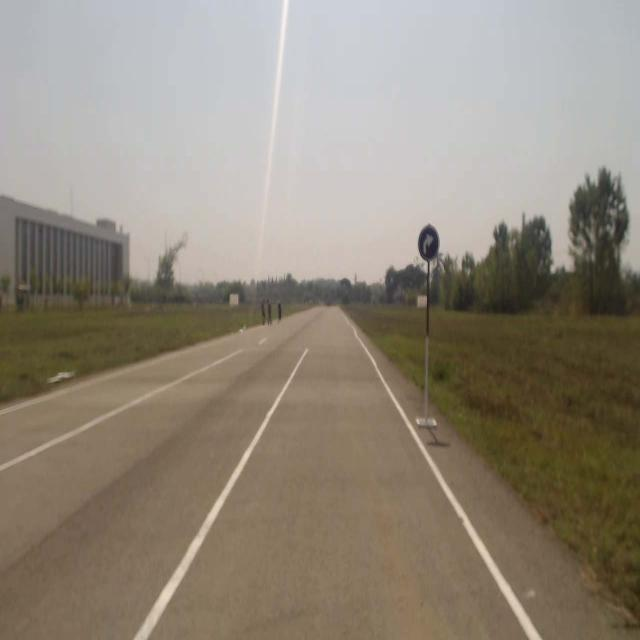sag: (419, 225, 440, 259)
